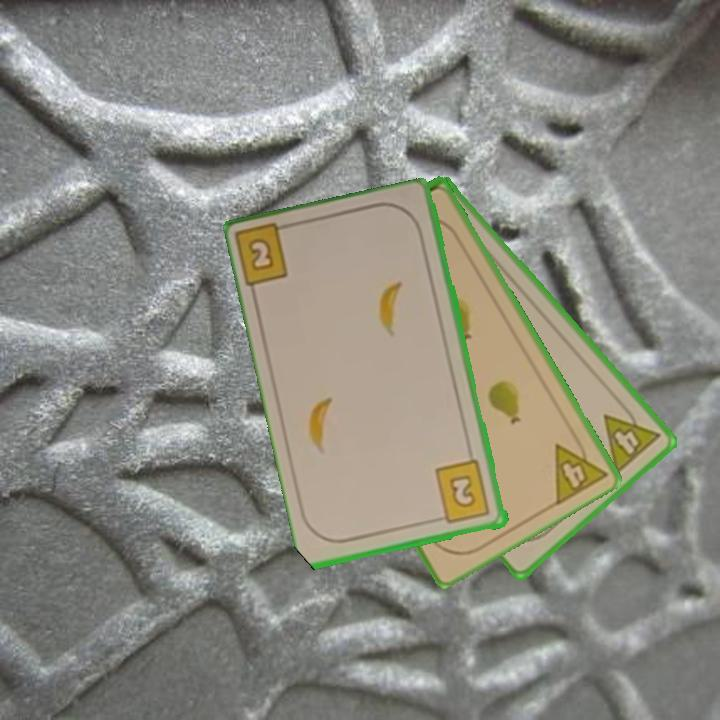2b: (234, 220, 299, 292), (432, 457, 494, 527)
4p: (600, 397, 663, 478), (551, 427, 610, 508)
